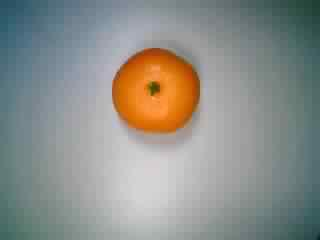orange: (105, 39, 203, 137)
